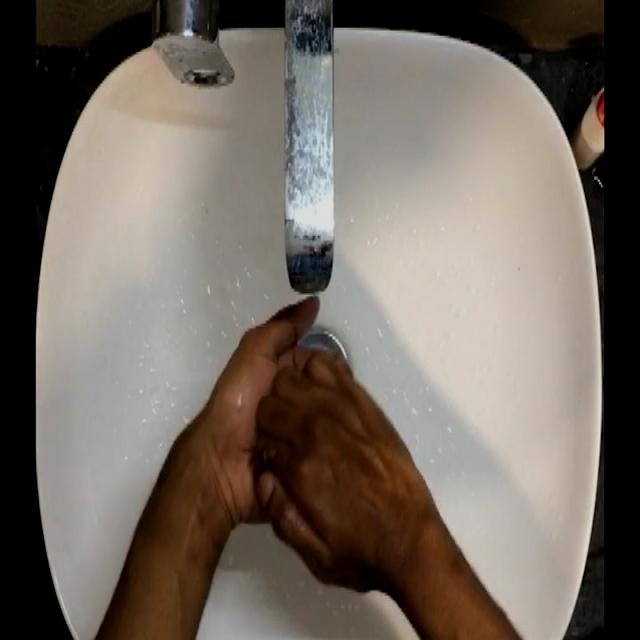step_4: (221, 290, 415, 595)
